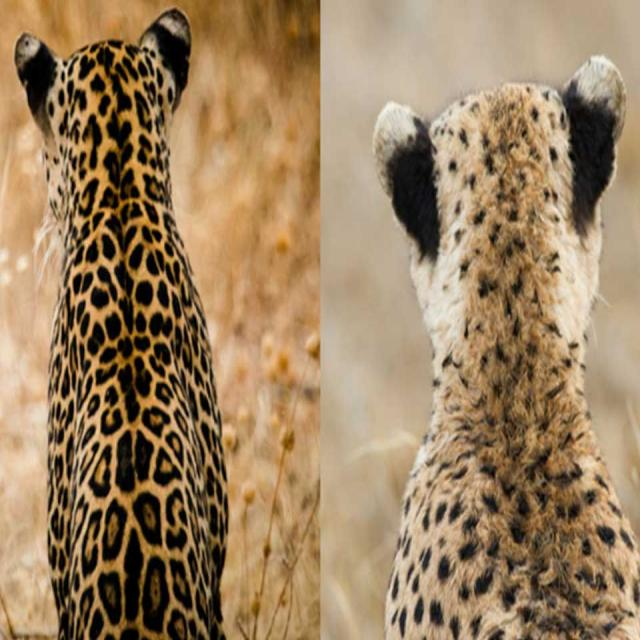Leopard: (376, 71, 640, 640), (15, 19, 232, 635)
